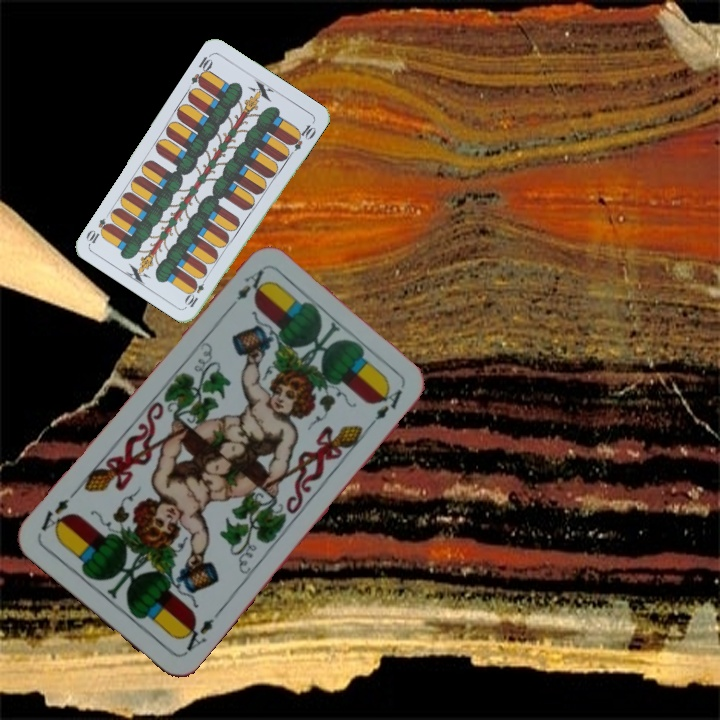E10: (187, 50, 216, 89), (182, 272, 210, 310)
EA: (223, 265, 269, 314), (176, 614, 217, 657)
